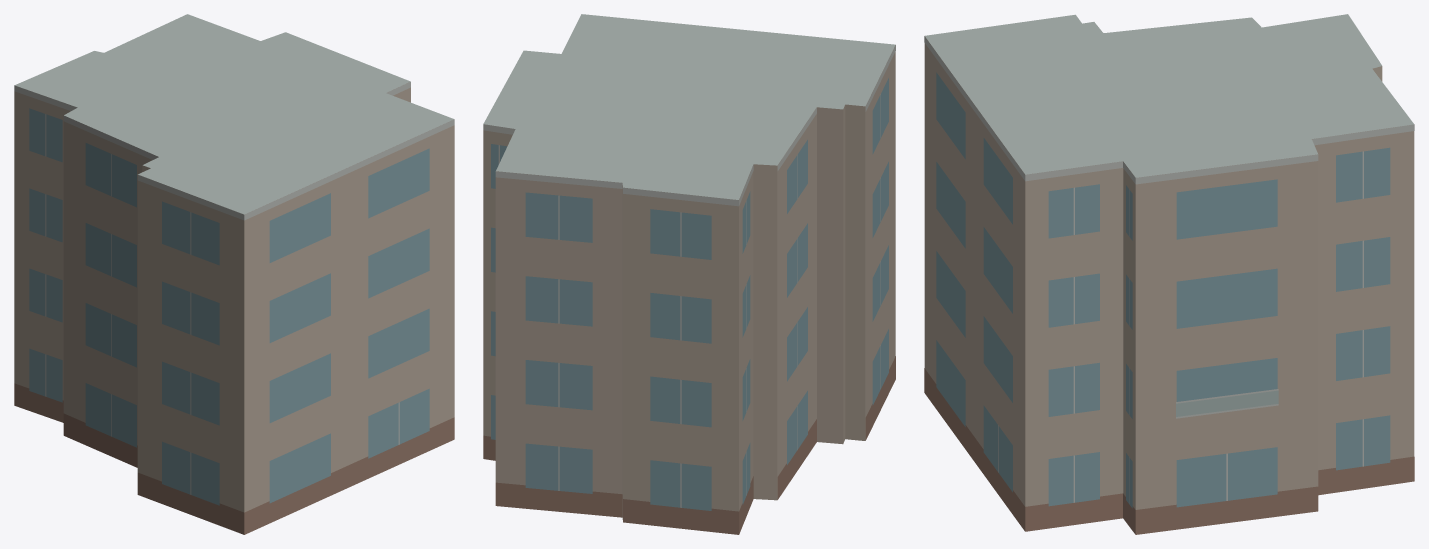
Rendered from survey-upis-32620734.glb.
The picture shows the model from 3 angles, left to right: view 1: azimuth 30°, elevation 25°; view 2: azimuth 150°, elevation 25°; view 3: azimuth 270°, elevation 25°; orthographic projection. The views are drawn at different scales.
Parts seen in each view (by area): view 1: survey-upis-32620734.tmp; view 2: survey-upis-32620734.tmp; view 3: survey-upis-32620734.tmp.
Part boxes in pixels (<box>): survey-upis-32620734.tmp: <box>14,14,454,534</box>; survey-upis-32620734.tmp: <box>483,14,895,534</box>; survey-upis-32620734.tmp: <box>924,14,1414,534</box>.
Bounding box in the file's own units: 13 × 13.2 × 16.43.
